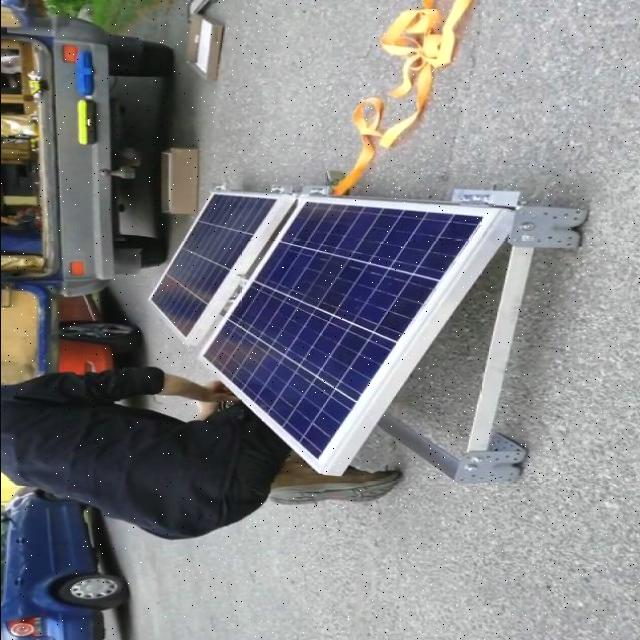Normal Solar Panel: (204, 202, 482, 460), (150, 195, 274, 338)
